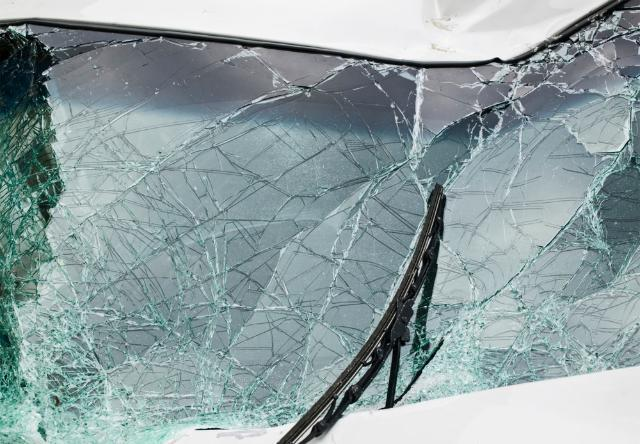dent: (422, 0, 582, 61)
glass shatter: (0, 6, 640, 444)
